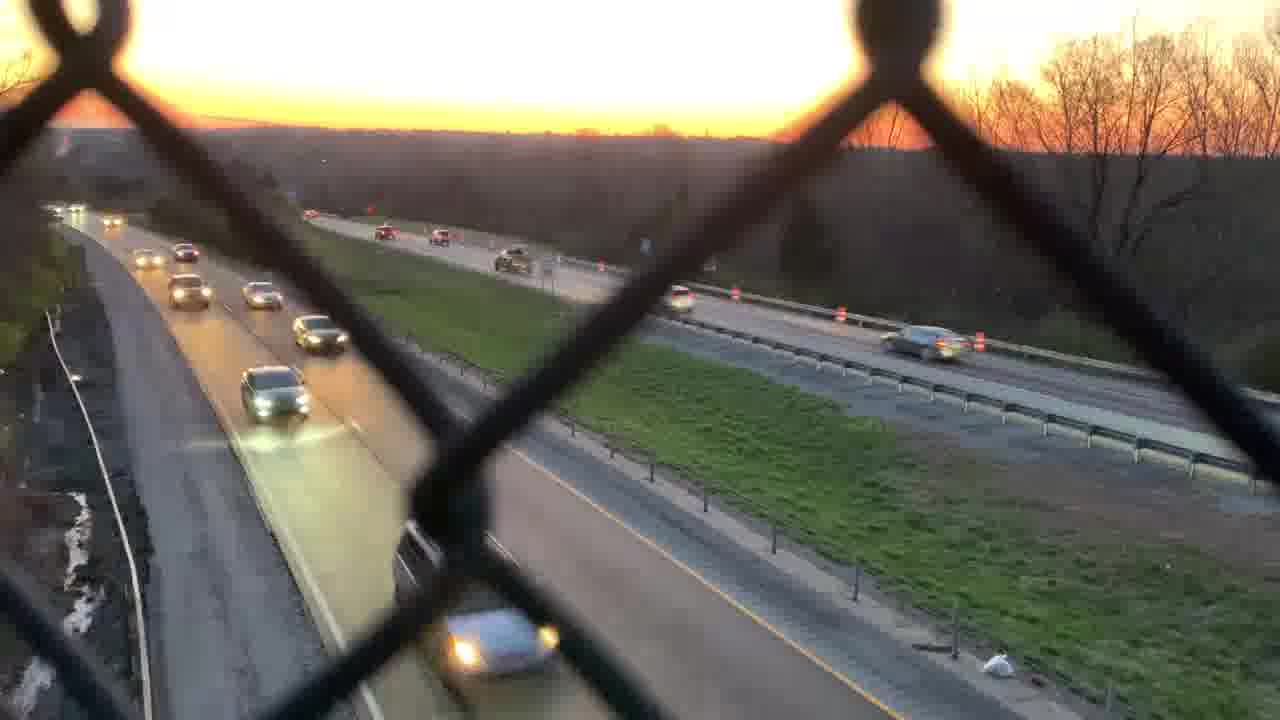largeCar: (392, 518, 558, 679)
smallCar: (879, 323, 976, 357), (292, 313, 348, 353)
